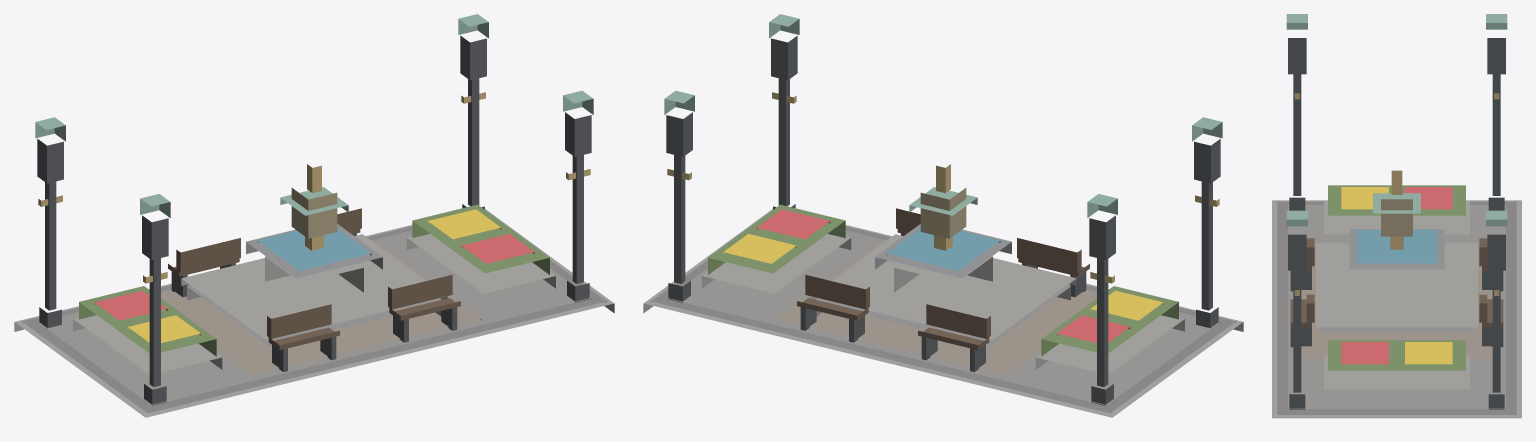
Rendered from city_plaza_4x2.glb.
3 renders of one model, left to right at view 1: azimuth 30°, elevation 25°; view 2: azimuth 150°, elevation 25°; view 3: azimuth 270°, elevation 25°, orthographic. The views are drawn at different scales.
Parts seen in each view (by area): view 1: Stone_Curb, Metal_CastIron, Cobble_Light, Cobble_Warm, Timber_DarkOak, Cobble_Dark, Hedge_Green, Metal_VerdigrisCopper, Stone_Plinth, Water_Fountain, Flower_Scarlet, Flower_Marigold (+2 smaller); view 2: Stone_Curb, Metal_CastIron, Cobble_Light, Cobble_Warm, Timber_DarkOak, Cobble_Dark, Hedge_Green, Metal_VerdigrisCopper, Stone_Plinth, Water_Fountain, Flower_Marigold, Flower_Scarlet (+2 smaller); view 3: Stone_Curb, Metal_CastIron, Cobble_Light, Cobble_Dark, Hedge_Green, Cobble_Warm, Water_Fountain, Stone_Plinth, Metal_VerdigrisCopper, Flower_Scarlet, Flower_Marigold, Timber_DarkOak (+2 smaller).
Part boxes in pixels (bbox=[...]): Stone_Curb: bbox=[14, 209, 614, 417]; Metal_CastIron: bbox=[37, 35, 591, 405]; Cobble_Light: bbox=[37, 230, 591, 405]; Cobble_Warm: bbox=[161, 242, 481, 374]; Timber_DarkOak: bbox=[168, 208, 460, 350]; Cobble_Dark: bbox=[22, 226, 606, 413]; Hedge_Green: bbox=[79, 204, 549, 356]; Metal_VerdigrisCopper: bbox=[35, 14, 593, 217]; Stone_Plinth: bbox=[187, 224, 441, 345]; Water_Fountain: bbox=[257, 228, 371, 270]; Flower_Scarlet: bbox=[94, 234, 534, 320]; Flower_Marigold: bbox=[127, 209, 501, 343]; Stone_Curb: bbox=[643, 209, 1243, 417]; Metal_CastIron: bbox=[666, 35, 1220, 405]; Cobble_Light: bbox=[666, 230, 1220, 405]; Cobble_Warm: bbox=[776, 242, 1096, 374]; Timber_DarkOak: bbox=[797, 208, 1089, 350]; Cobble_Dark: bbox=[651, 226, 1235, 413]; Hedge_Green: bbox=[708, 204, 1178, 356]; Metal_VerdigrisCopper: bbox=[664, 14, 1222, 217]; Stone_Plinth: bbox=[816, 224, 1070, 345]; Water_Fountain: bbox=[886, 228, 1000, 270]; Flower_Marigold: bbox=[723, 234, 1163, 320]; Flower_Scarlet: bbox=[756, 209, 1130, 343]; Stone_Curb: bbox=[1272, 200, 1521, 418]; Metal_CastIron: bbox=[1288, 38, 1505, 409]; Cobble_Light: bbox=[1288, 204, 1505, 409]; Cobble_Dark: bbox=[1277, 201, 1516, 414]; Hedge_Green: bbox=[1328, 185, 1465, 370]; Cobble_Warm: bbox=[1301, 252, 1492, 358]; Water_Fountain: bbox=[1357, 230, 1436, 263]; Stone_Plinth: bbox=[1320, 229, 1473, 332]; Metal_VerdigrisCopper: bbox=[1286, 14, 1507, 226]; Flower_Scarlet: bbox=[1341, 187, 1452, 364]; Flower_Marigold: bbox=[1341, 187, 1452, 364]; Timber_DarkOak: bbox=[1290, 238, 1503, 327].
Size of the model in its own units: 3.88 by 1.68 by 1.88.
